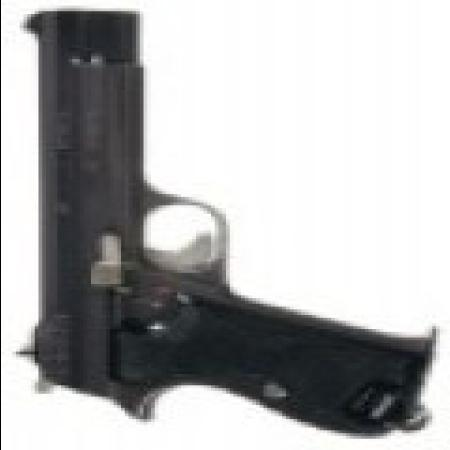Pistol: (23, 9, 432, 433)
